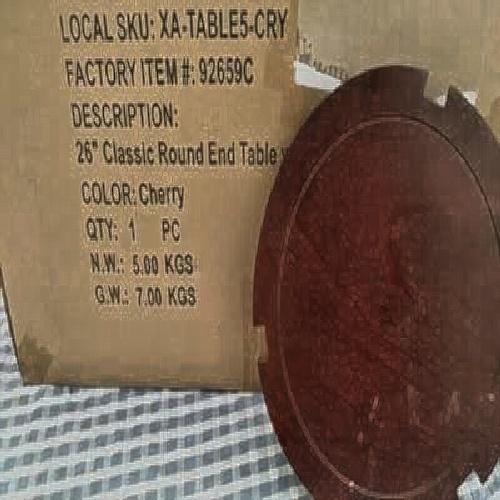table: (253, 79, 500, 489)
